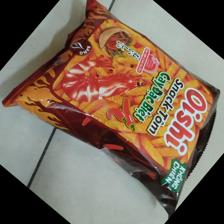Oishi_Cay: (3, 1, 223, 218)
